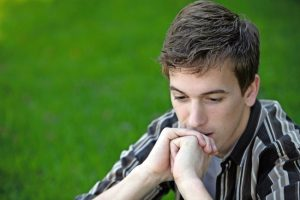person: (132, 20, 279, 169)
